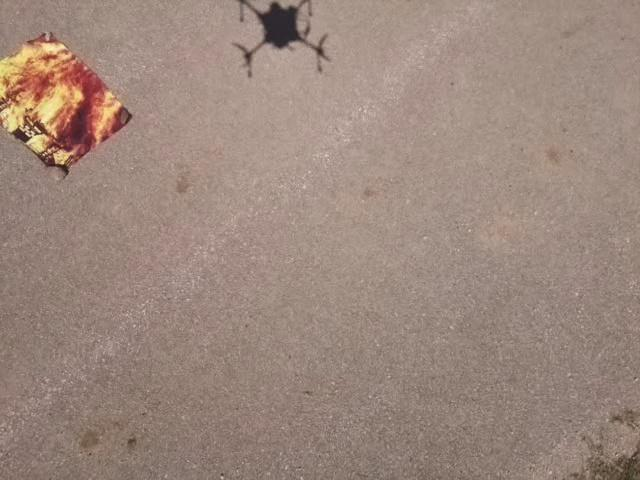fire-poster: (0, 29, 133, 182)
